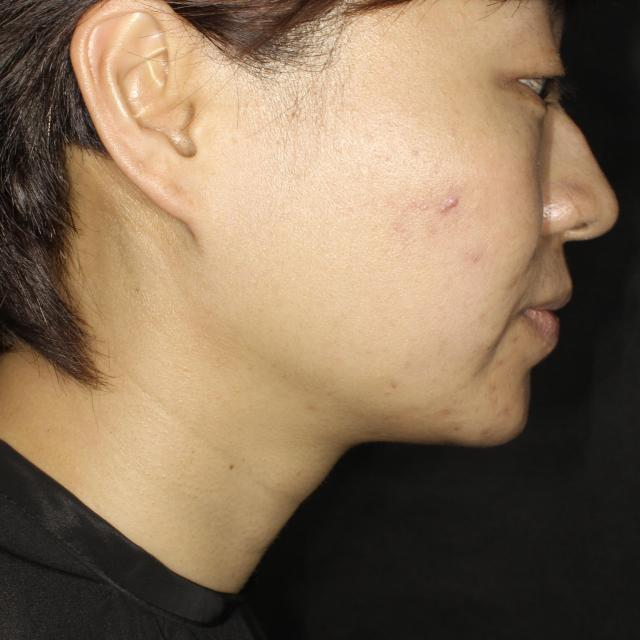comedone: (434, 185, 465, 212)
